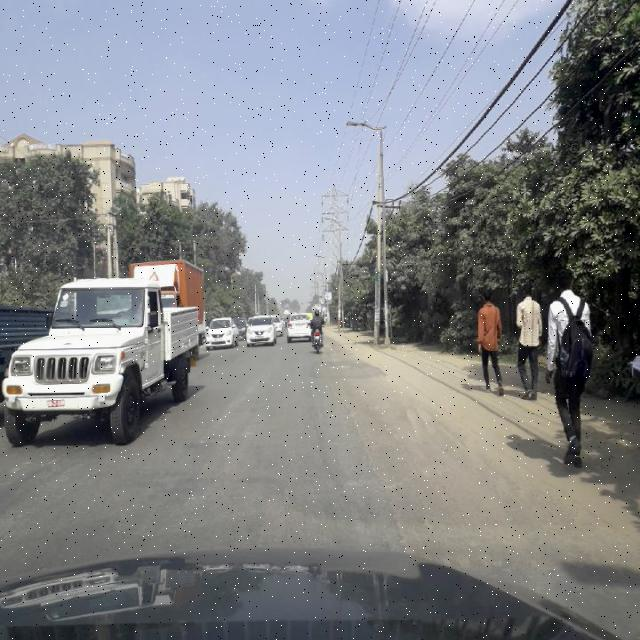D00: (350, 409, 404, 540), (261, 463, 303, 537)
D40: (318, 356, 356, 376)
